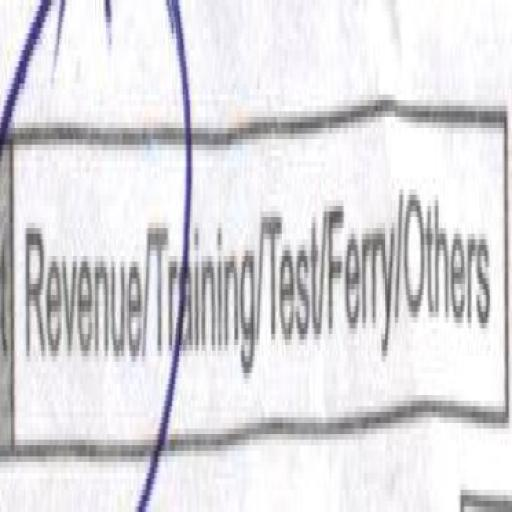check: (2, 0, 146, 512)
